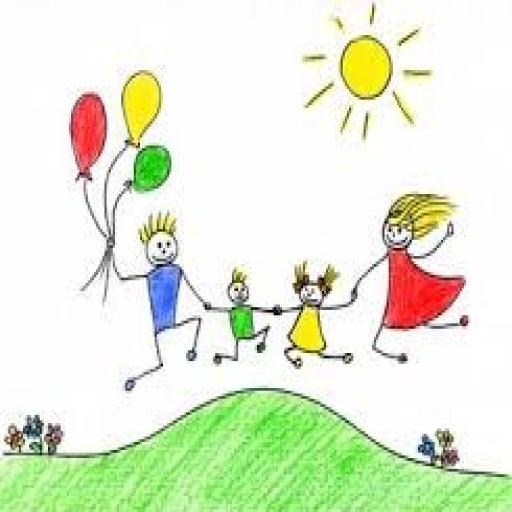person: (354, 178, 474, 366), (112, 208, 212, 397), (277, 253, 356, 376), (207, 264, 278, 374)
